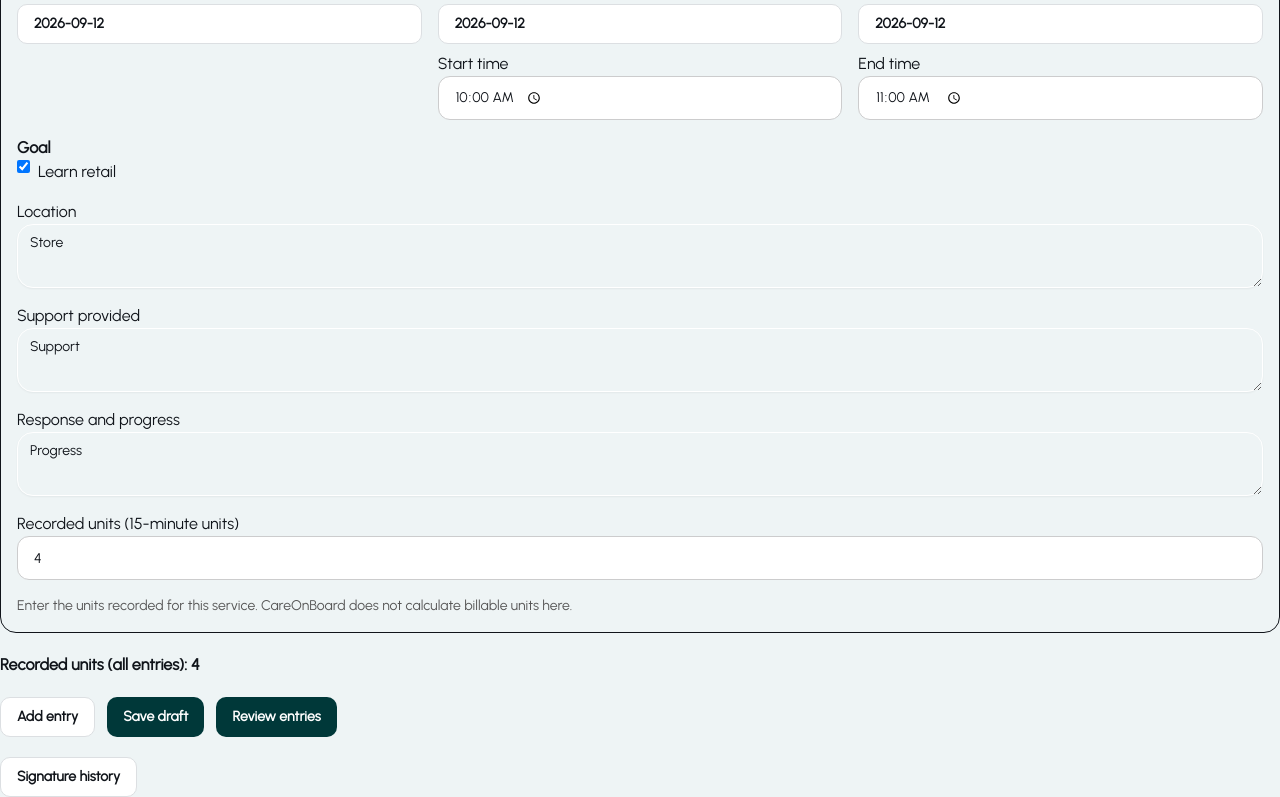
it: requires preview and unchecked consent before signing
The width and height of the screenshot is (1280, 797).
(page scrolled)
Expected: the text box showing "Support" is shown, x1=17 y1=328 x2=1263 y2=392
Expected: the button "Sign and submit" is not shown
Click the button "Review entries" at [277, 717], box x1=216 y1=697 x2=337 y2=737
(page scrolled)
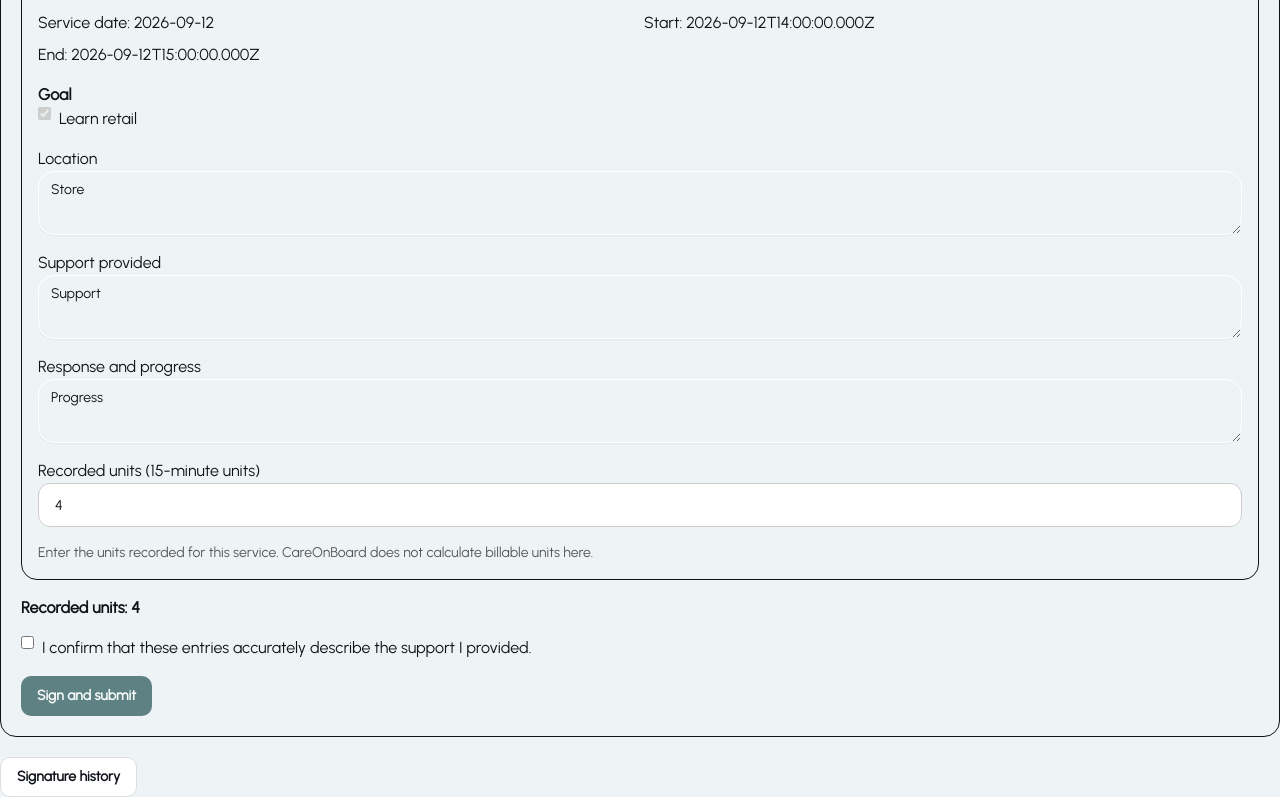
Now the button "Sign and submit" is disabled, box x1=21 y1=676 x2=152 y2=716
